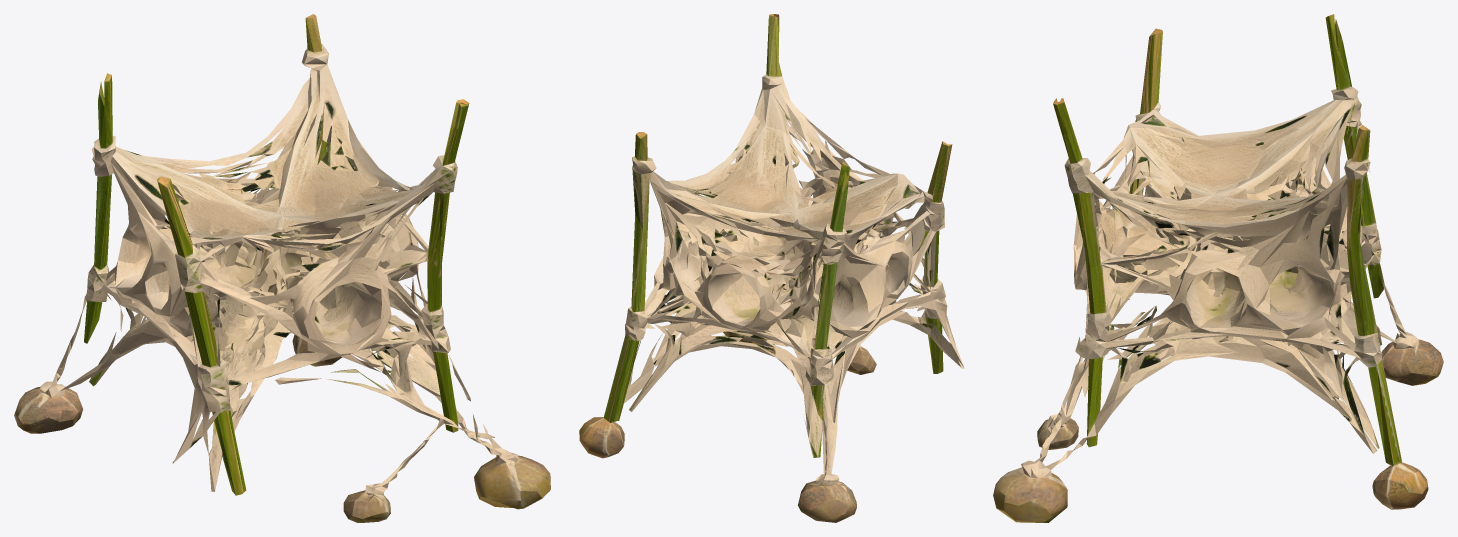
The model's file is spinnery.glb.
3 renders of one model, left to right at view 1: azimuth 30°, elevation 25°; view 2: azimuth 150°, elevation 25°; view 3: azimuth 270°, elevation 25°, orthographic. The views are drawn at different scales.
Size of the model in its own units: 1.64 by 1.84 by 1.9.
Materials: 1 (1 with a texture image).
